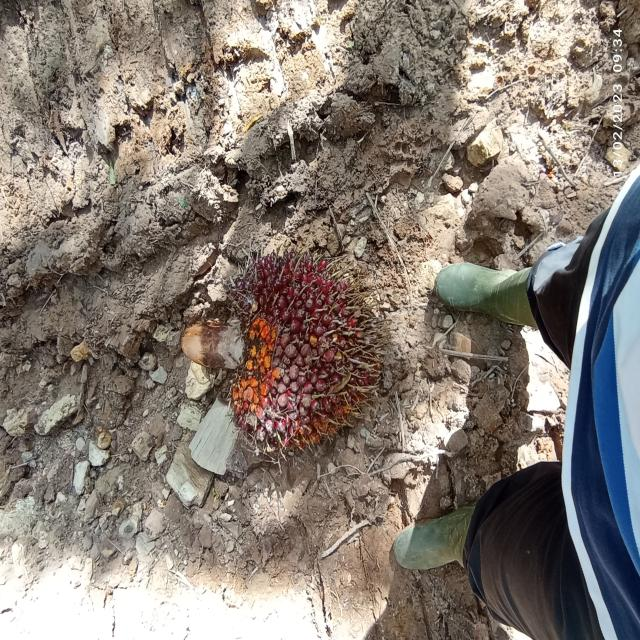fraksi 3: (199, 221, 400, 461)
